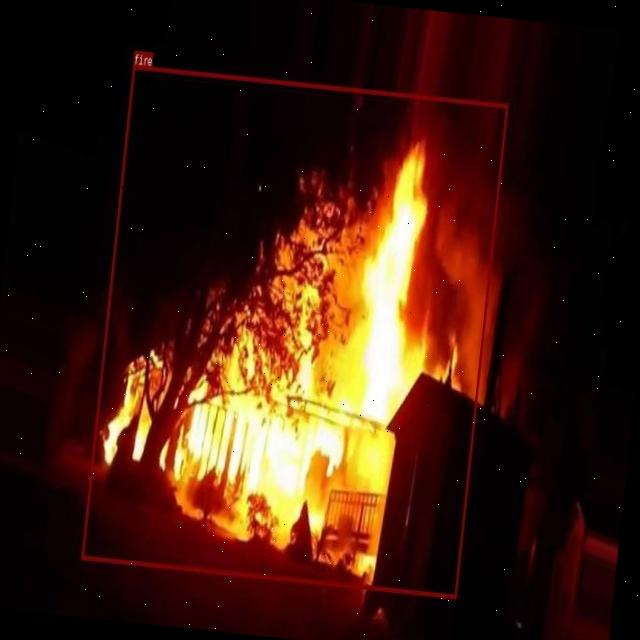fire: (80, 64, 508, 598)
